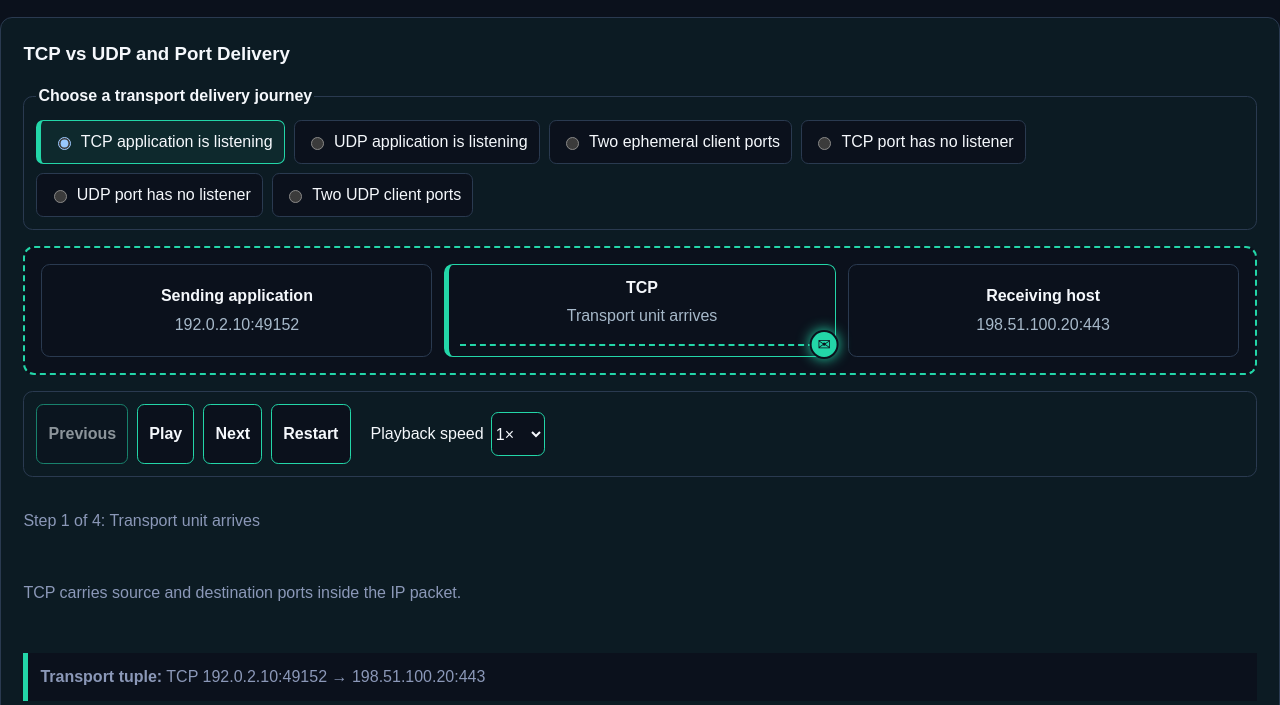
PortDeliveryPlayer › offers five scenarios and shows tuple, header, socket, and application evidence
Expected: the radio button labelled "TCP application is listening" is shown, [58,138,71,150]
Expected: the radio button labelled "UDP application is listening" is shown, [311,138,324,150]
Click the button "Next" at (233, 434), box [203,404,262,464]
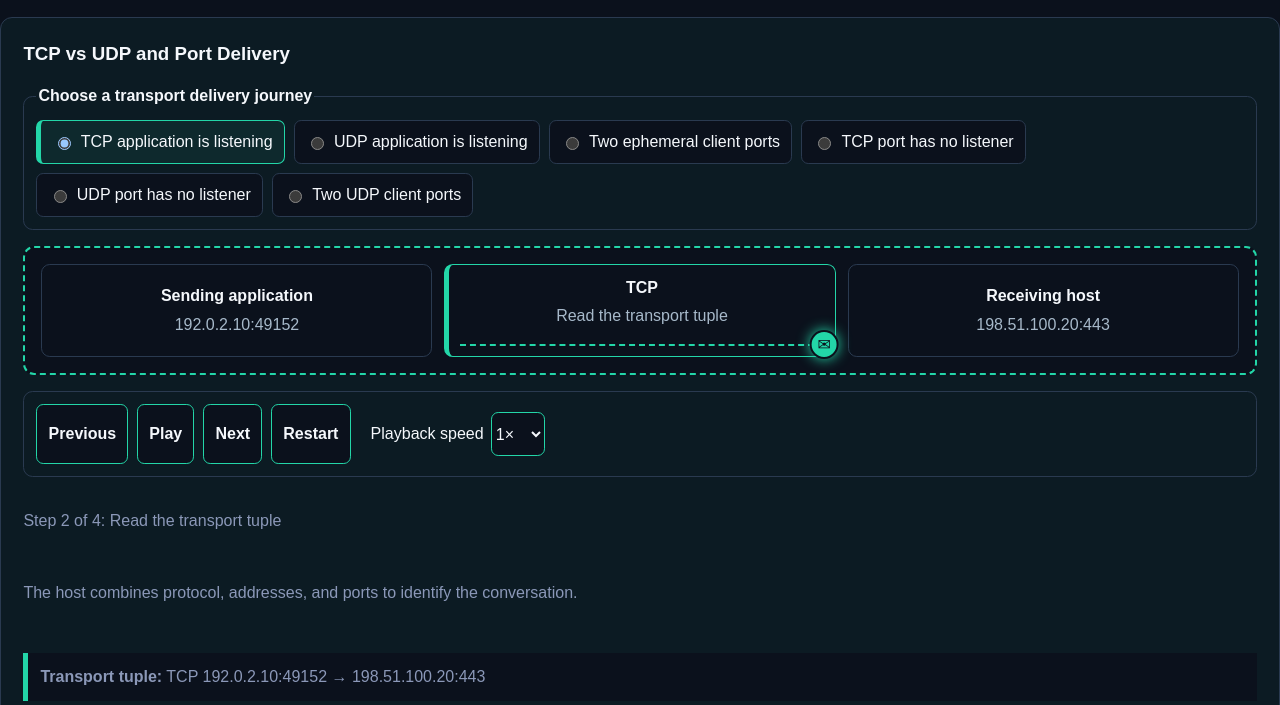
Click the button "Next" at (233, 434), box [203,404,262,464]
(page scrolled)
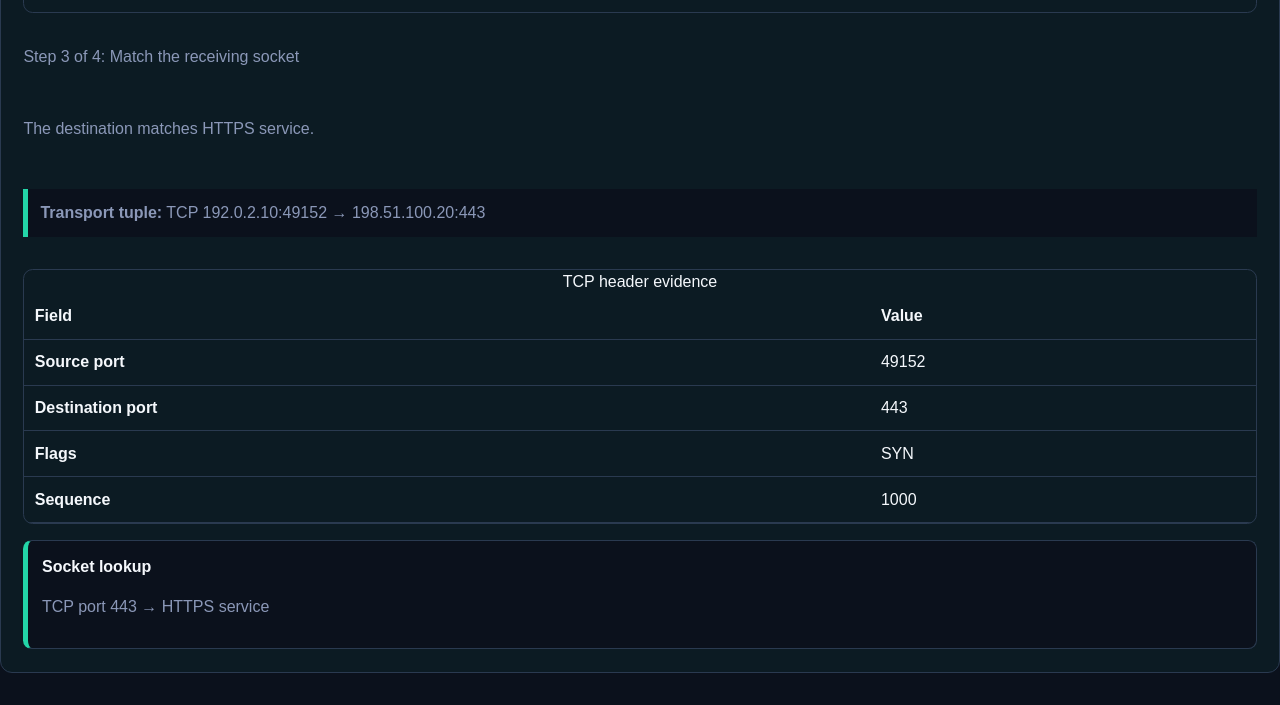
Now the text "TCP port 443 → HTTPS service" is shown, box [42,598,269,614]
